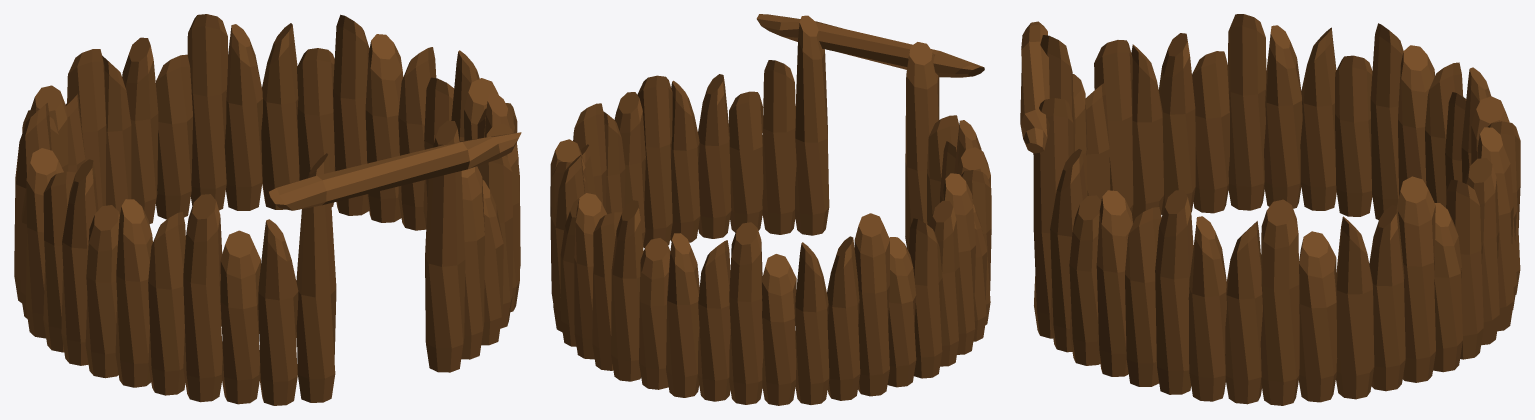
Rendered from B_Enclosure.fbx.
The picture shows the model from 3 angles, left to right: view 1: azimuth 30°, elevation 25°; view 2: azimuth 150°, elevation 25°; view 3: azimuth 270°, elevation 25°; orthographic projection. The views are drawn at different scales.
Parts seen in each view (by area): view 1: B_Enclosure; view 2: B_Enclosure; view 3: B_Enclosure.
Boxes of the visible parts, left/top/right/bottom form: B_Enclosure: left=14, top=14, right=521, bottom=405; B_Enclosure: left=550, top=14, right=991, bottom=405; B_Enclosure: left=1020, top=14, right=1520, bottom=405.
Size of the model in its own units: 880 by 463 by 879.
